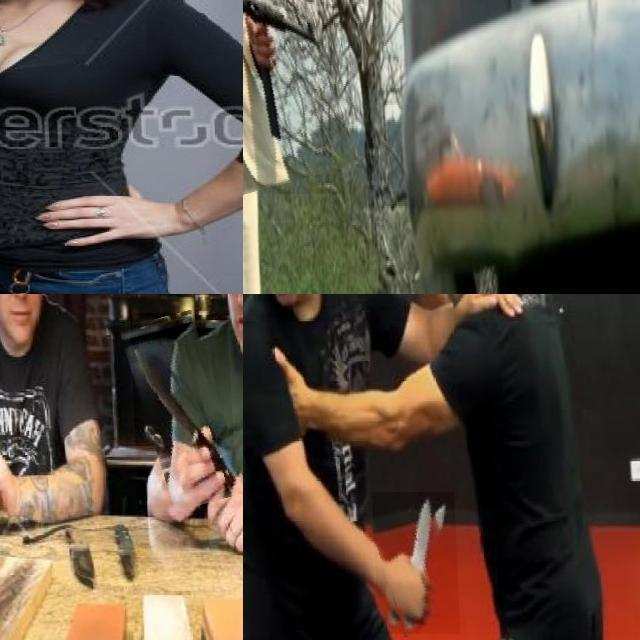-: (128, 313, 232, 508), (368, 492, 455, 634), (0, 0, 64, 82)
gun-knife-thesis - v11 Yolov5 augmented: (243, 0, 340, 194)
